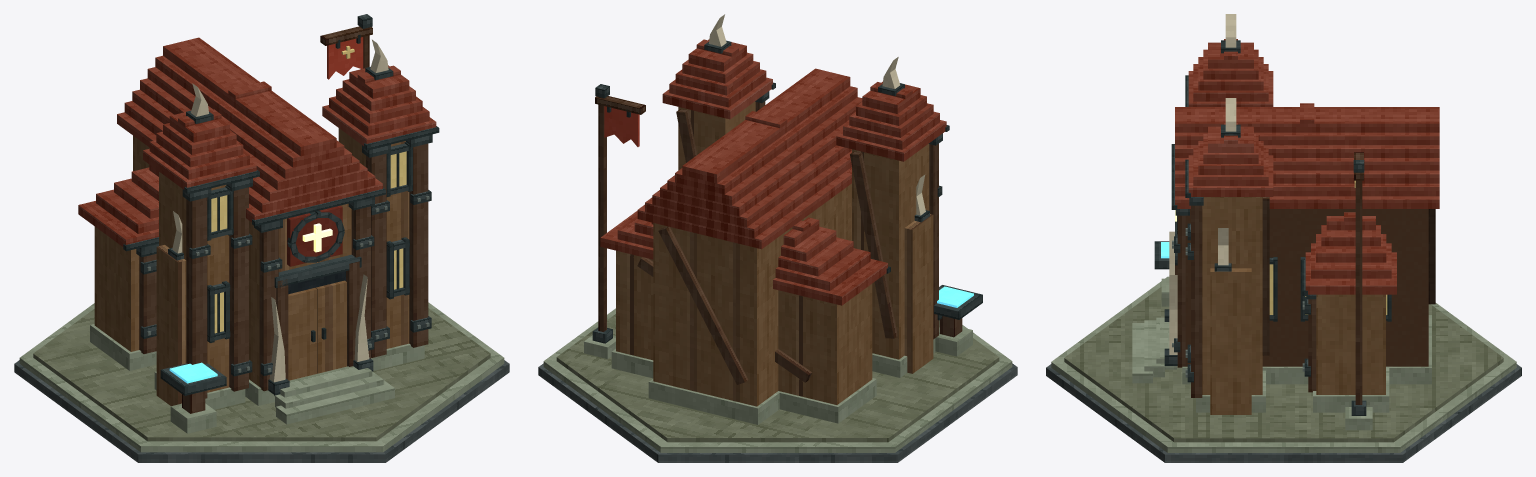
File: orc_sacred_ritual_hex_v1.glb
The picture shows the model from 3 angles, left to right: view 1: azimuth 30°, elevation 25°; view 2: azimuth 150°, elevation 25°; view 3: azimuth 270°, elevation 25°; orthographic projection. The views are drawn at different scales.
Visible parts, largest first — view 1: Orc_Sacred_Ritual_Hex_V1_Roofs, Orc_Sacred_Ritual_Hex_V1_Foundation, Orc_Sacred_Ritual_Hex_V1_Hall, Orc_Sacred_Ritual_Hex_V1_Details, Orc_Sacred_Ritual_Hex_V1_Courtyard, Orc_Sacred_Ritual_Hex_V1_Training, Orc_Sacred_Ritual_Hex_V1_Focus, Orc_Sacred_Ritual_Hex_V1_Faction; view 2: Orc_Sacred_Ritual_Hex_V1_Hall, Orc_Sacred_Ritual_Hex_V1_Roofs, Orc_Sacred_Ritual_Hex_V1_Foundation, Orc_Sacred_Ritual_Hex_V1_Details, Orc_Sacred_Ritual_Hex_V1_Faction, Orc_Sacred_Ritual_Hex_V1_Training; view 3: Orc_Sacred_Ritual_Hex_V1_Roofs, Orc_Sacred_Ritual_Hex_V1_Hall, Orc_Sacred_Ritual_Hex_V1_Foundation, Orc_Sacred_Ritual_Hex_V1_Details, Orc_Sacred_Ritual_Hex_V1_Faction, Orc_Sacred_Ritual_Hex_V1_Courtyard, Orc_Sacred_Ritual_Hex_V1_Training.
Part boxes in pixels (left/top/right/bottom): Orc_Sacred_Ritual_Hex_V1_Roofs: left=78, top=37, right=439, bottom=251; Orc_Sacred_Ritual_Hex_V1_Foundation: left=14, top=302, right=509, bottom=462; Orc_Sacred_Ritual_Hex_V1_Hall: left=90, top=128, right=424, bottom=409; Orc_Sacred_Ritual_Hex_V1_Details: left=136, top=134, right=432, bottom=398; Orc_Sacred_Ritual_Hex_V1_Courtyard: left=274, top=366, right=394, bottom=424; Orc_Sacred_Ritual_Hex_V1_Training: left=160, top=362, right=226, bottom=433; Orc_Sacred_Ritual_Hex_V1_Focus: left=287, top=205, right=344, bottom=266; Orc_Sacred_Ritual_Hex_V1_Faction: left=320, top=14, right=372, bottom=79; Orc_Sacred_Ritual_Hex_V1_Hall: left=611, top=101, right=935, bottom=424; Orc_Sacred_Ritual_Hex_V1_Roofs: left=600, top=14, right=949, bottom=305; Orc_Sacred_Ritual_Hex_V1_Foundation: left=538, top=308, right=1017, bottom=462; Orc_Sacred_Ritual_Hex_V1_Details: left=637, top=91, right=942, bottom=384; Orc_Sacred_Ritual_Hex_V1_Faction: left=584, top=84, right=645, bottom=358; Orc_Sacred_Ritual_Hex_V1_Training: left=934, top=285, right=982, bottom=356; Orc_Sacred_Ritual_Hex_V1_Roofs: left=1171, top=14, right=1439, bottom=295; Orc_Sacred_Ritual_Hex_V1_Hall: left=1164, top=197, right=1431, bottom=414; Orc_Sacred_Ritual_Hex_V1_Foundation: left=1046, top=276, right=1521, bottom=462; Orc_Sacred_Ritual_Hex_V1_Details: left=1172, top=197, right=1435, bottom=397; Orc_Sacred_Ritual_Hex_V1_Faction: left=1345, top=152, right=1372, bottom=430; Orc_Sacred_Ritual_Hex_V1_Courtyard: left=1132, top=317, right=1176, bottom=383; Orc_Sacred_Ritual_Hex_V1_Training: left=1154, top=241, right=1169, bottom=306.
Size of the model in its own units: 1.59 by 1.35 by 1.84.
1 material, 1 textured.
